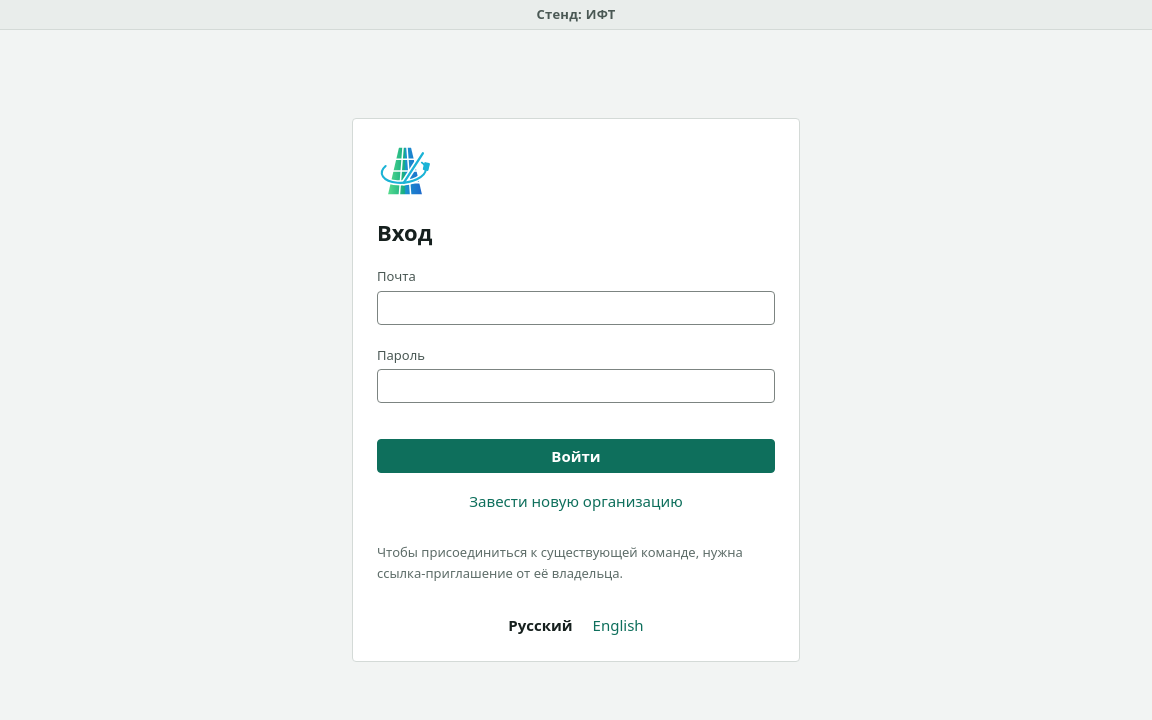
метка среды стоит полосой на входе и на доске и первой в заголовке вкладки
The width and height of the screenshot is (1152, 720).
Expected: the heading "Вход" is shown, [377, 217, 432, 247]
Expected: the text "Стенд: ИФТ" is shown, [0, 0, 1151, 30]
Type "anna@example.test" into the field labelled "Почта".
click(576, 308); type("anna@example.test")  # box [377, 291, 775, 325]
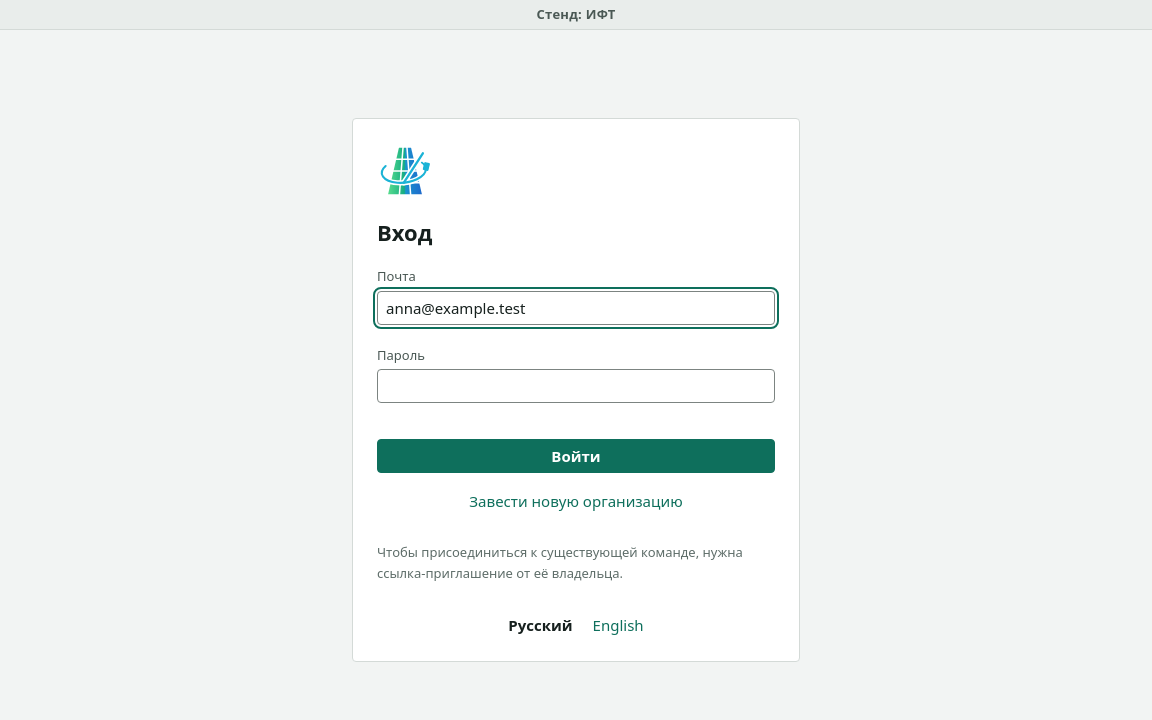
Type "parol12345" into the password field labelled "Пароль".
click(576, 386); type("parol12345")  # box [377, 369, 775, 403]
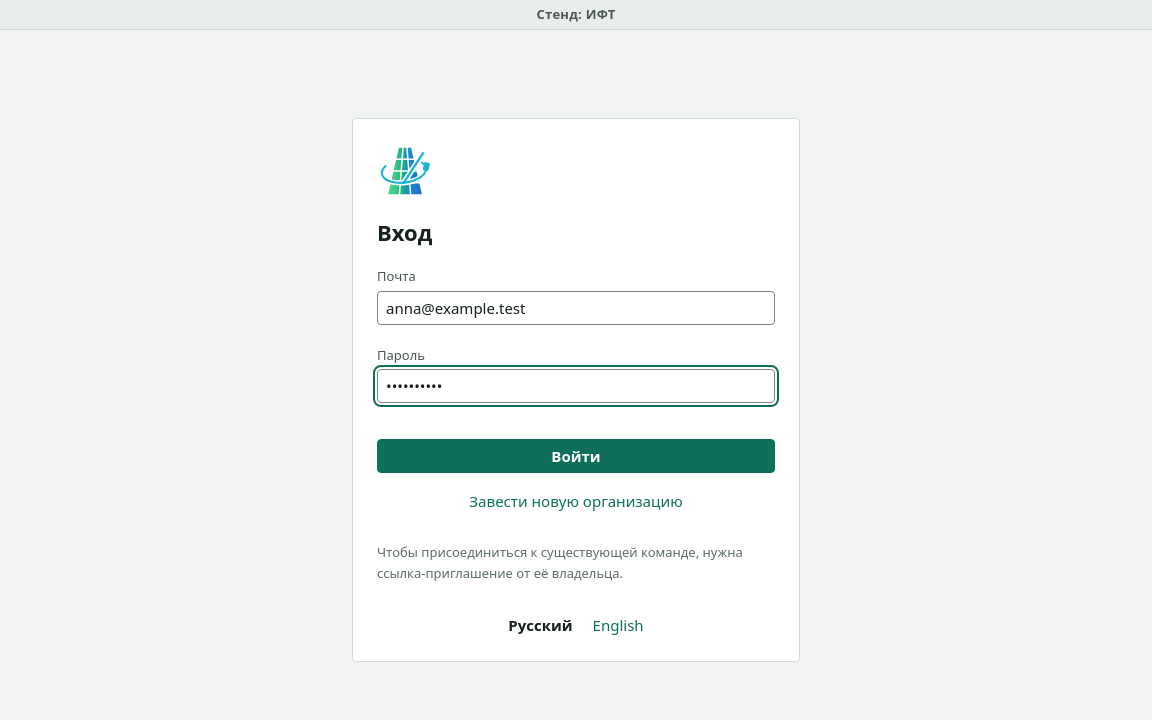
Click the button "Войти".
click(576, 456)  # box [377, 439, 775, 473]
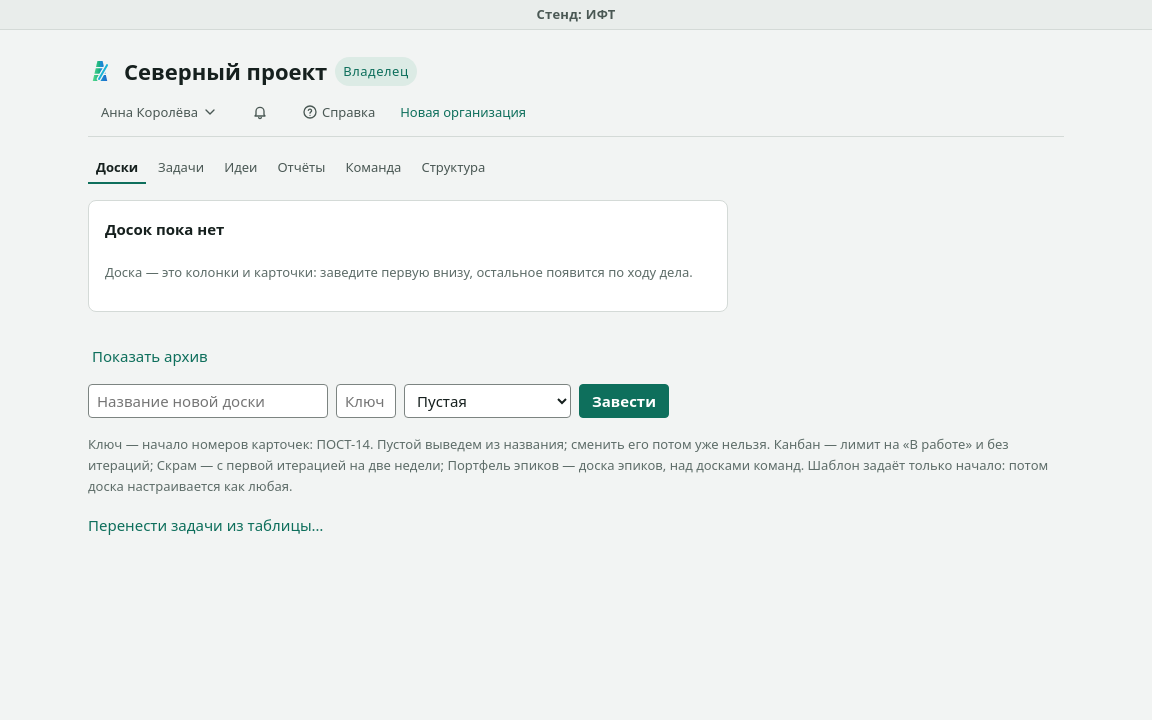
Expected: the text "Стенд: ИФТ" is shown, [0, 0, 1151, 30]
Result: the heading "Северный проект" is shown at [124, 54, 327, 89]
